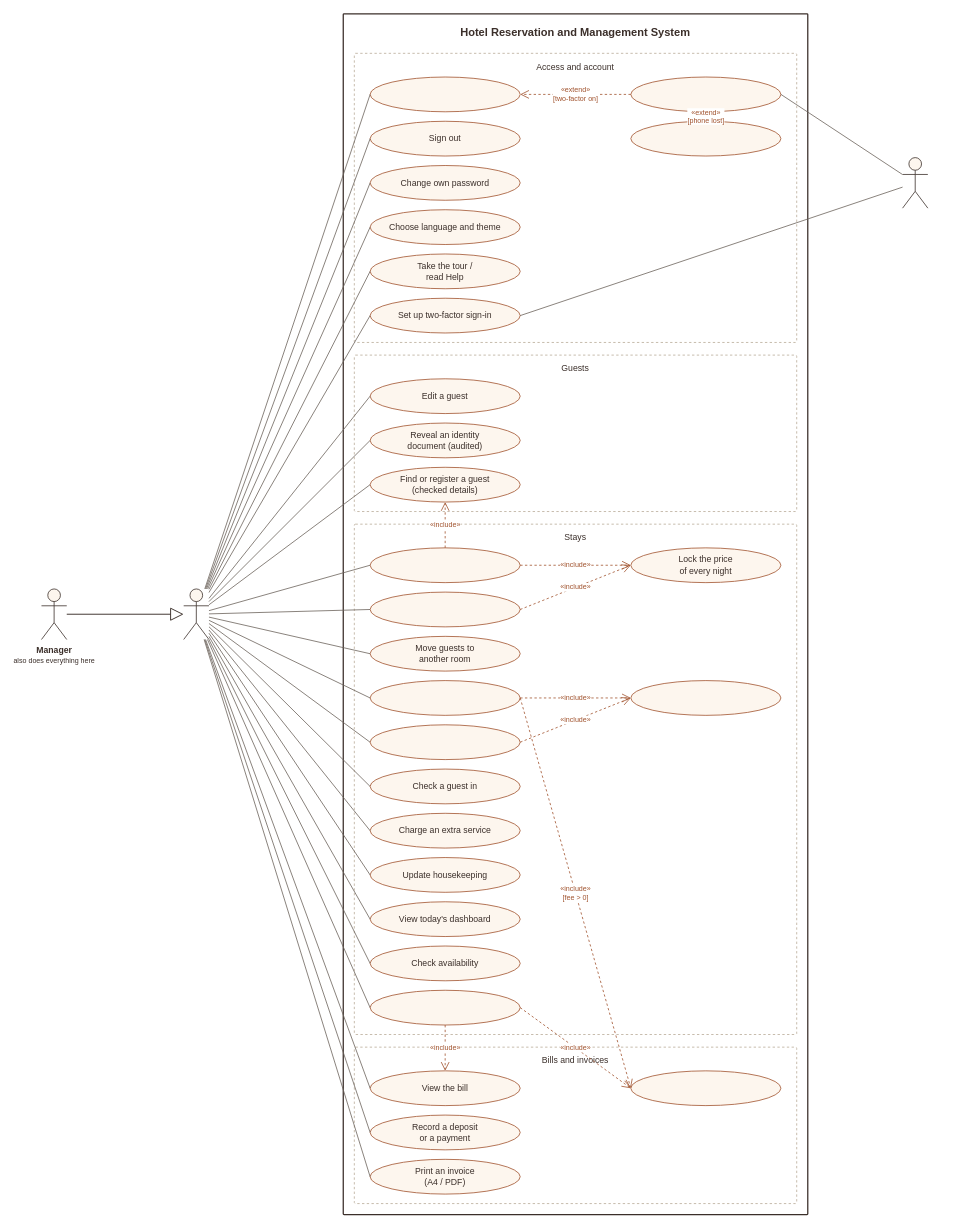
Image size: 966x1229. Some labels were removed from this diagram. Each missing label, with the centre of its shape:
Authenticator app «system» on the phone: the point at 915,182
Book a stay: the point at 444,565
Cancel a stay: the point at 444,697
Change a stay: the point at 444,609
Check a guest out: the point at 444,1007
Compute the cancellation fee: the point at 705,697
Enter a two-factor code: the point at 705,94
Issue the invoice: the point at 705,1088
Receptionist: the point at 196,614
Record a no-show: the point at 444,742
Sign in: the point at 444,94
Use a recovery code: the point at 705,138
